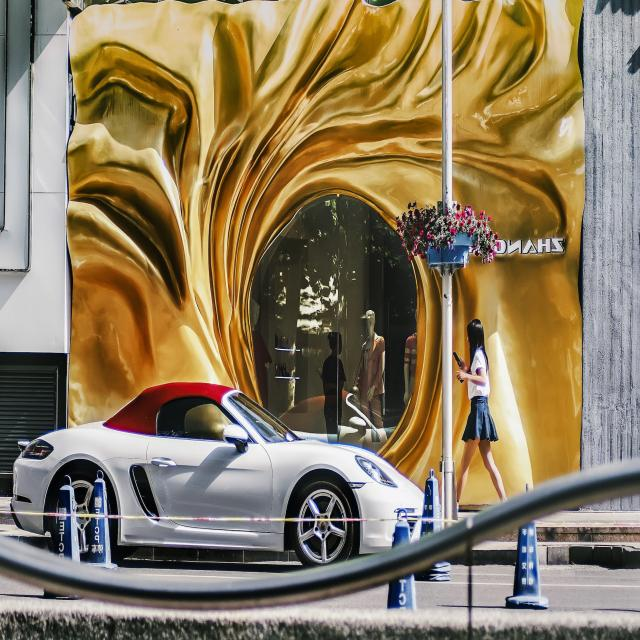adult: (453, 316, 508, 505)
